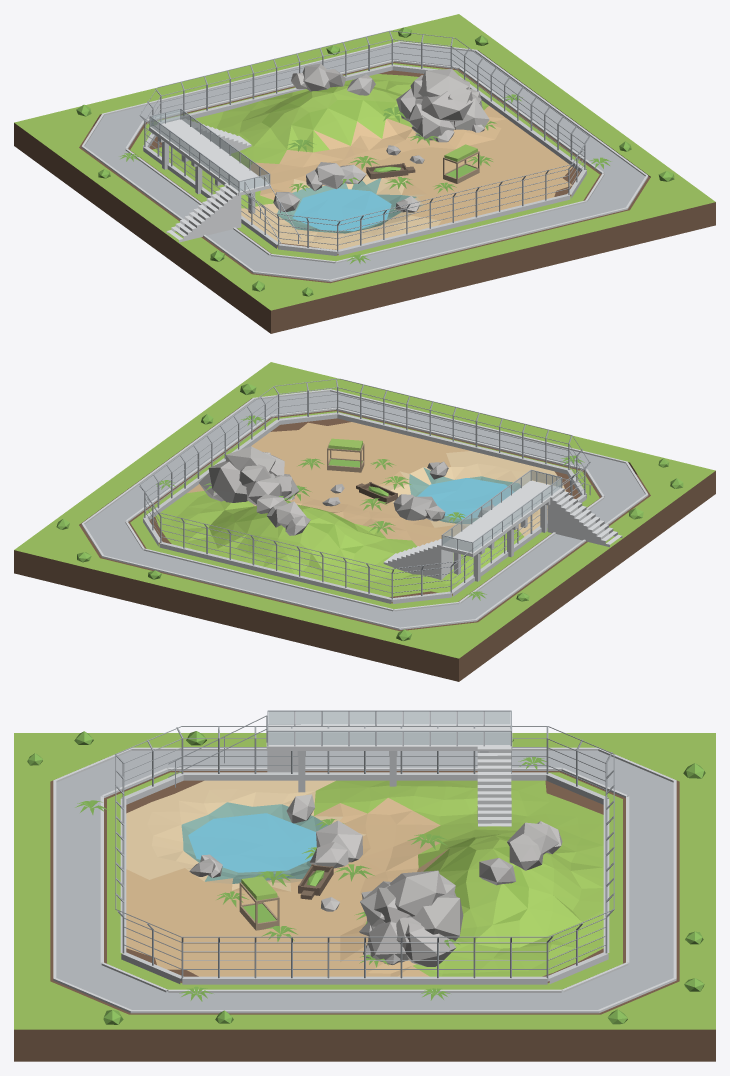
Rendered from dinosaur_enclosure_50x50.glb.
The picture shows the model from 3 angles, top to bottom: view 1: azimuth 30°, elevation 25°; view 2: azimuth 150°, elevation 25°; view 3: azimuth 270°, elevation 25°; orthographic projection. The views are drawn at different scales.
Parts seen in each view (by area): view 1: Terrain_Mesh, Lawn_Outer, Road, Diorama_Base_Sides, Fence_Rails, Fence_Foundation, Verge_Inner, Curb_Outer, Water_Surface, Deck_Slab, Curb_Inner, Fence_Posts (+11 smaller); view 2: Terrain_Mesh, Lawn_Outer, Road, Diorama_Base_Sides, Fence_Foundation, Fence_Rails, Verge_Inner, Curb_Outer, Curb_Inner, Deck_Slab, Fence_Posts, Deck_Stairs.001 (+9 smaller); view 3: Terrain_Mesh, Lawn_Outer, Road, Diorama_Base_Sides, Fence_Foundation, Verge_Inner, Fence_Rails, Deck_Rail_Glass, Deck_Slab, Water_Surface, Curb_Outer, Curb_Inner (+20 smaller).
Boxes of the visible parts, x1,y1,x2,y2 form: Terrain_Mesh: (152, 74, 572, 249); Lawn_Outer: (14, 14, 715, 310); Road: (84, 43, 645, 279); Diorama_Base_Sides: (14, 50, 715, 333); Fence_Rails: (139, 30, 590, 245); Fence_Foundation: (143, 64, 586, 255); Verge_Inner: (130, 63, 599, 261); Curb_Outer: (81, 41, 648, 281); Water_Surface: (292, 188, 391, 231); Deck_Slab: (149, 119, 270, 195); Curb_Inner: (125, 59, 604, 263); Fence_Posts: (140, 31, 589, 251); Terrain_Mesh: (155, 422, 565, 596); Lawn_Outer: (14, 362, 715, 658); Road: (84, 391, 645, 627); Diorama_Base_Sides: (14, 398, 715, 681); Fence_Foundation: (143, 412, 586, 603); Fence_Rails: (139, 378, 590, 593); Verge_Inner: (130, 411, 599, 609); Curb_Outer: (81, 389, 648, 629); Curb_Inner: (125, 407, 604, 611); Deck_Slab: (441, 480, 562, 556); Fence_Posts: (139, 378, 590, 599); Deck_Stairs.001: (547, 488, 622, 547); Terrain_Mesh: (126, 780, 603, 976); Lawn_Outer: (14, 733, 715, 1029); Road: (56, 750, 673, 1009); Diorama_Base_Sides: (14, 771, 715, 1061); Fence_Foundation: (120, 772, 609, 984); Verge_Inner: (107, 772, 622, 989); Fence_Rails: (115, 726, 614, 969); Deck_Rail_Glass: (268, 711, 510, 744); Deck_Slab: (266, 725, 512, 750); Water_Surface: (188, 813, 316, 872); Curb_Outer: (53, 747, 676, 1013); Curb_Inner: (100, 767, 629, 992).
Size of the model in its own units: 50 by 7.99 by 50.
